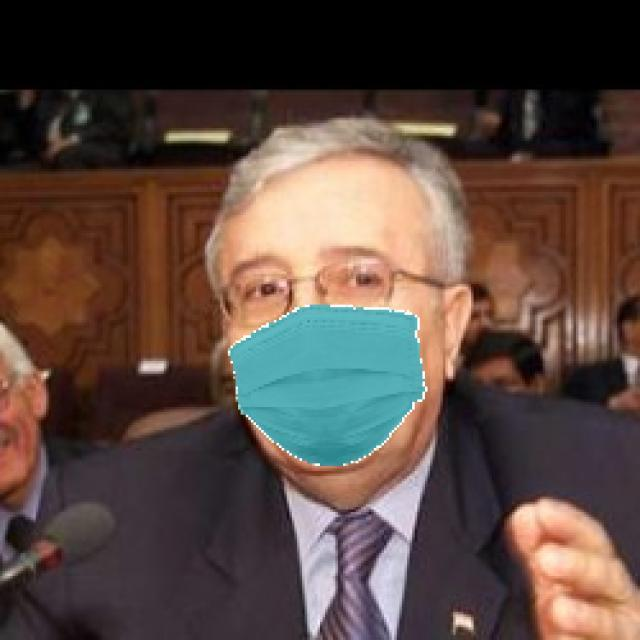surgical: (219, 212, 421, 464)
